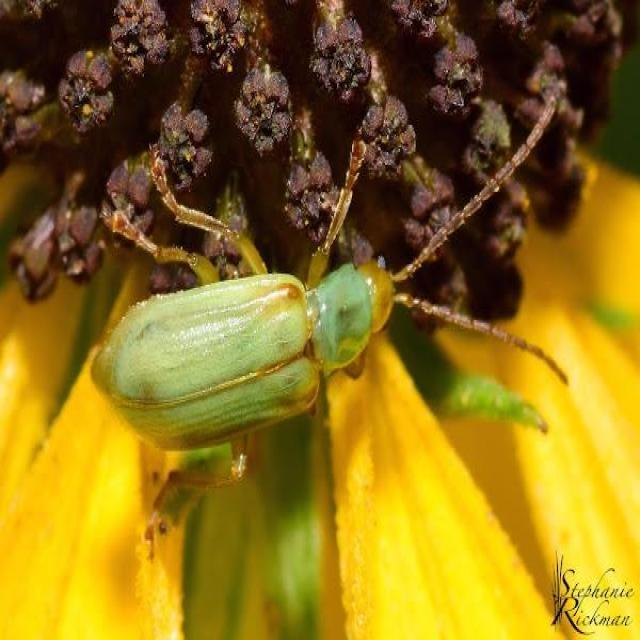gusano_gris: (92, 84, 566, 514)
